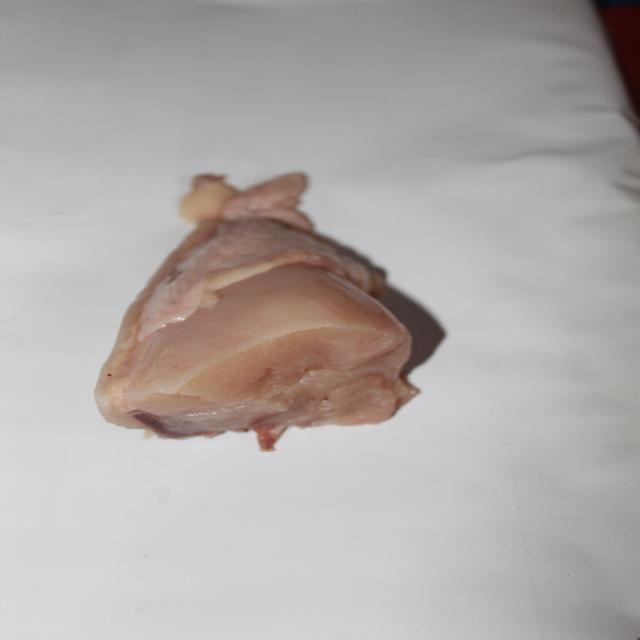chicken: (106, 174, 406, 433)
